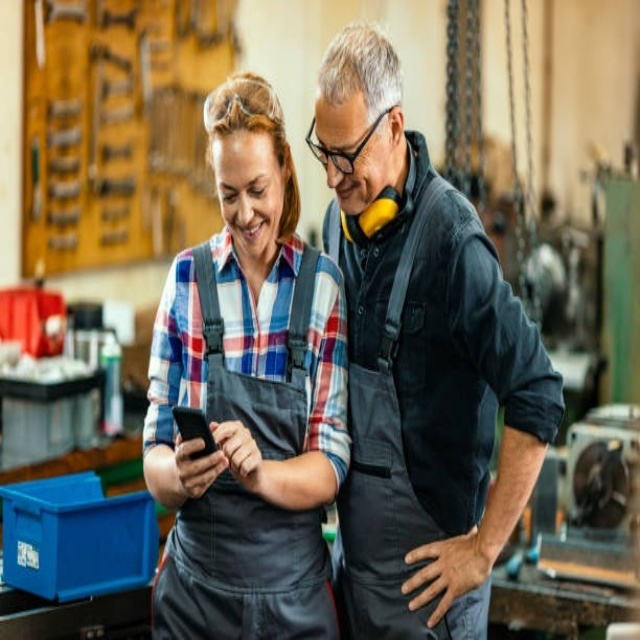Gafas: (304, 96, 394, 174)
Sin_gafas: (215, 166, 277, 205)
Sin_guantes: (399, 526, 489, 627), (174, 425, 230, 499), (211, 416, 261, 480)
Sin_mascara: (327, 179, 365, 212), (233, 218, 271, 249)
